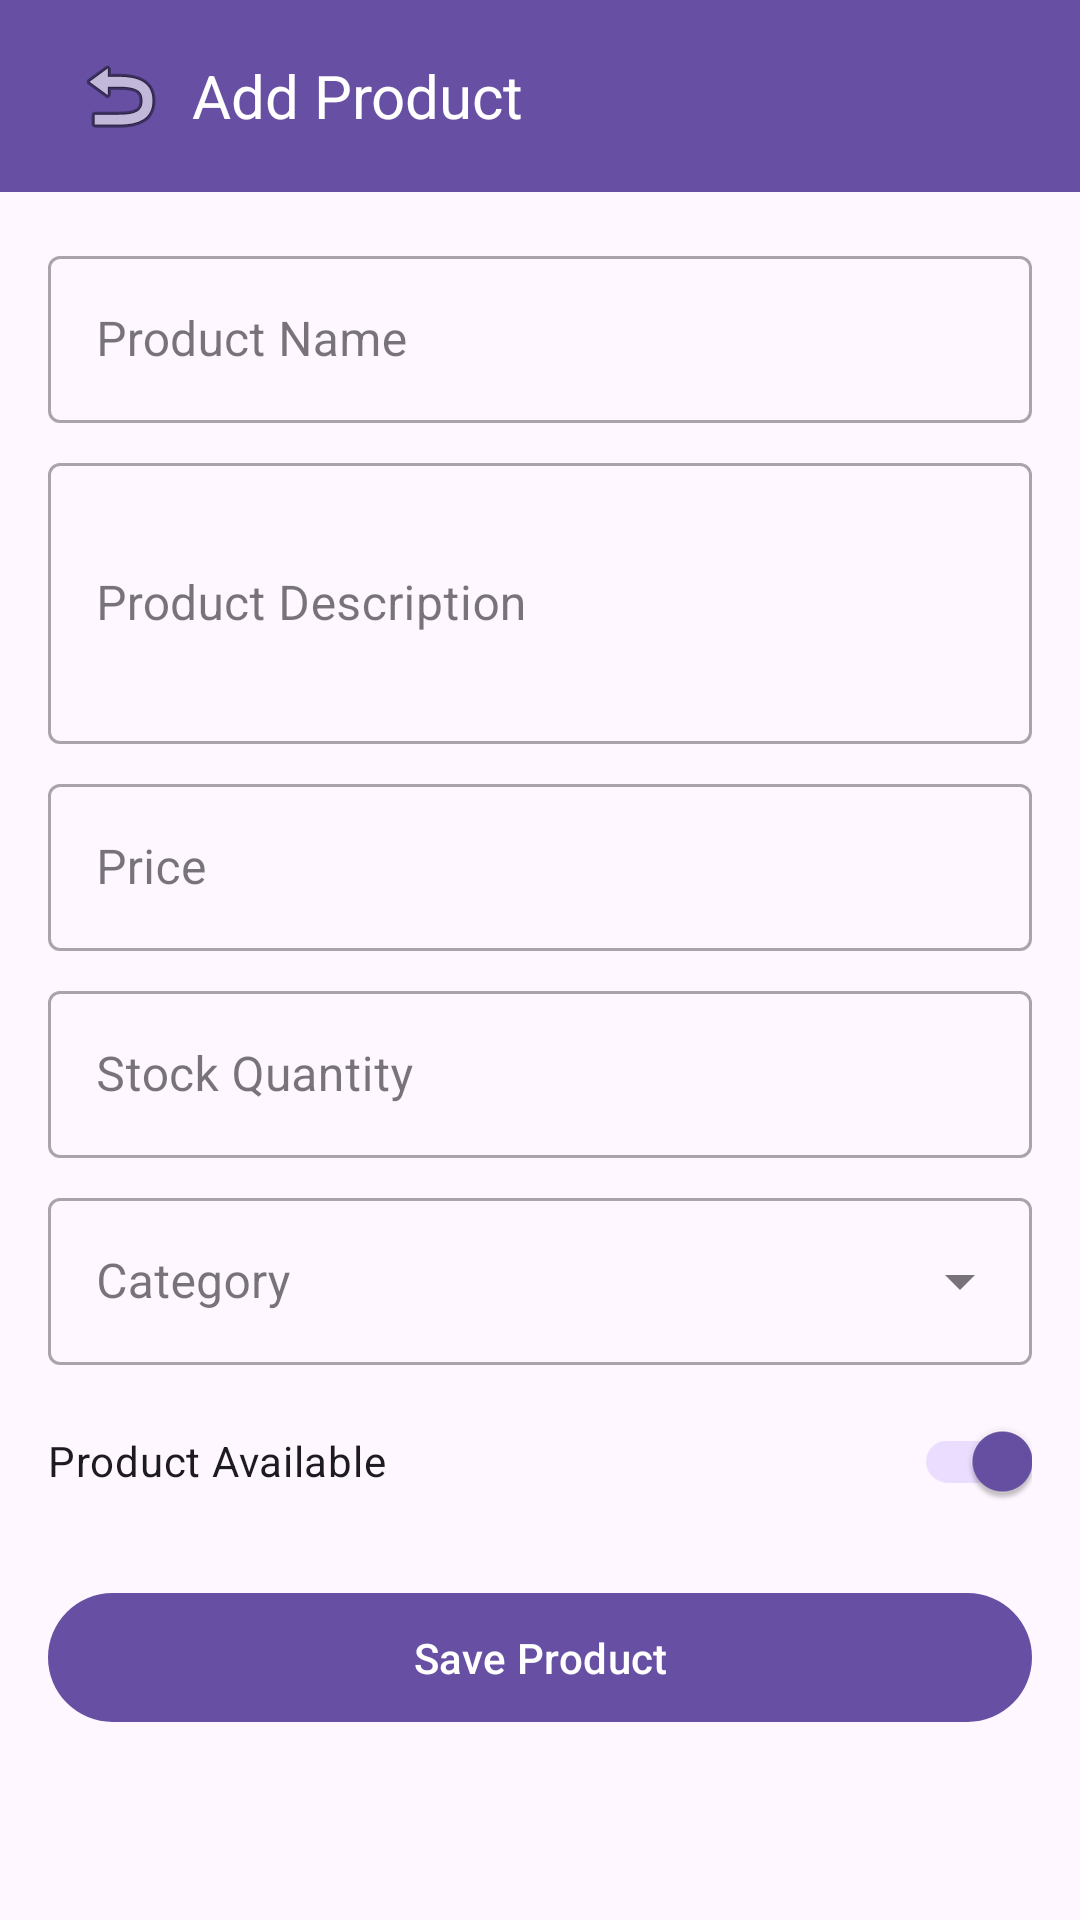

Icon click points for this 1080px x 1920px phone screenshot, format (x,y):
Back to menu: (121,96)
